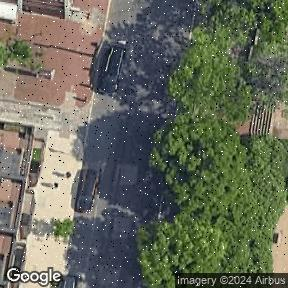vegetation: (0, 40, 42, 70), (53, 220, 73, 242)
